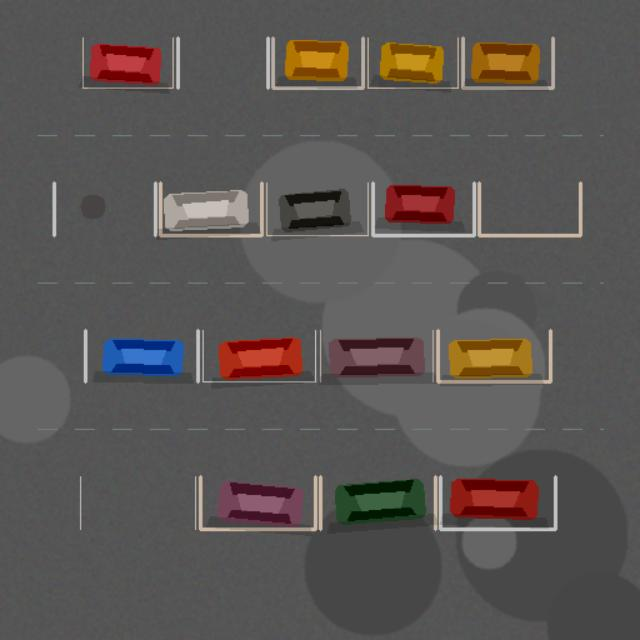space-empty: (80, 476, 195, 529), (54, 183, 155, 235), (479, 183, 580, 235), (177, 37, 267, 87)
space-occupied: (200, 476, 315, 529), (320, 476, 435, 529), (440, 476, 555, 529), (320, 330, 433, 381), (437, 330, 550, 381), (85, 330, 197, 381), (203, 330, 315, 381), (160, 183, 261, 235), (266, 183, 367, 235), (373, 183, 474, 235), (83, 37, 173, 87), (273, 37, 363, 87), (367, 37, 457, 87), (463, 37, 553, 87)
